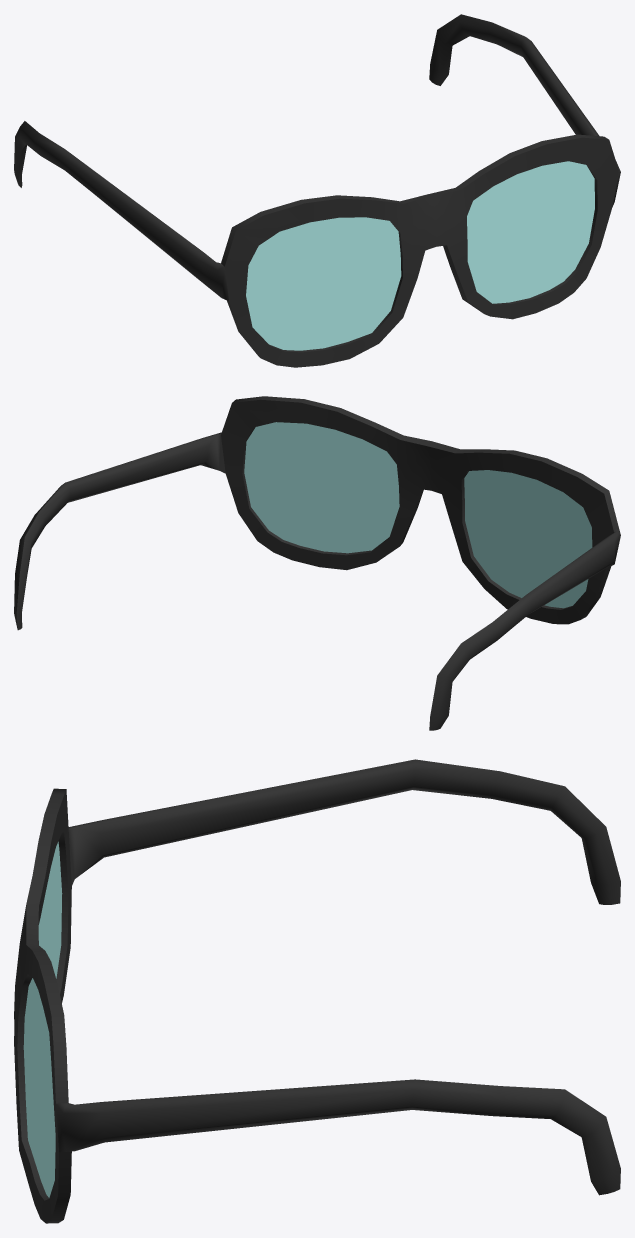
The model's file is glasses_nerd.glb.
3 renders of one model, top to bottom at view 1: azimuth 30°, elevation 25°; view 2: azimuth 150°, elevation 25°; view 3: azimuth 270°, elevation 25°, orthographic. The views are drawn at different scales.
Visible parts, largest first — view 1: 0.008, 1.008; view 2: 0.008, 1.008; view 3: 0.008, 1.008.
Boxes of the visible parts, x1,y1,x2,y2 form: 0.008: (14, 14, 620, 367); 1.008: (246, 161, 594, 350); 0.008: (14, 396, 620, 730); 1.008: (244, 422, 592, 608); 0.008: (14, 759, 620, 1223); 1.008: (23, 841, 62, 1197).
Bounding box in the file's own units: 0.4647 × 0.1541 × 0.3645.
